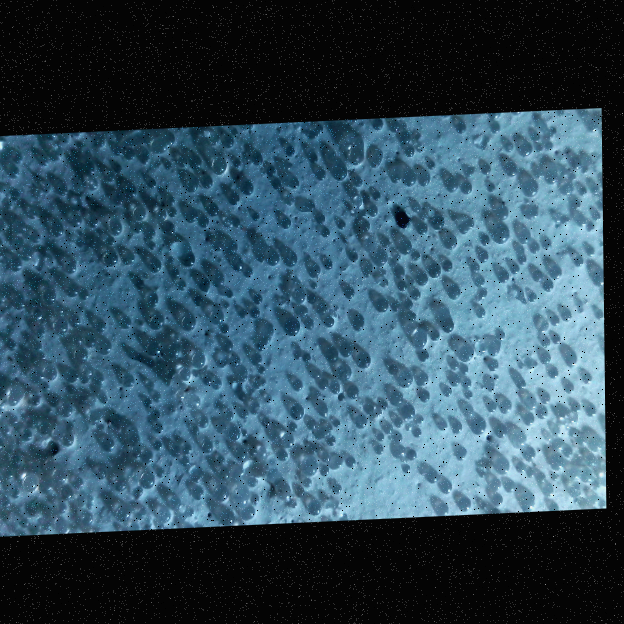GrassBeadSeg: (232, 485, 250, 507), (522, 179, 538, 198), (398, 369, 414, 388), (412, 330, 428, 348), (302, 458, 318, 476), (493, 225, 509, 243), (285, 317, 300, 336), (332, 162, 347, 181), (22, 475, 38, 491), (337, 364, 352, 381), (149, 314, 164, 330), (458, 346, 473, 362), (141, 471, 155, 488), (182, 314, 196, 331), (471, 418, 485, 435), (512, 431, 526, 448), (521, 494, 535, 511), (215, 486, 229, 502), (403, 170, 416, 187), (104, 251, 118, 266), (192, 353, 206, 368), (373, 251, 387, 266), (98, 339, 112, 354), (167, 344, 181, 359), (187, 394, 201, 409), (357, 352, 370, 368), (496, 458, 509, 474), (349, 148, 362, 164), (222, 510, 235, 526), (428, 264, 442, 278), (291, 405, 304, 420), (241, 181, 254, 196), (55, 319, 68, 334), (213, 159, 226, 174), (117, 506, 130, 521), (227, 426, 240, 441), (399, 240, 412, 255), (158, 508, 171, 523), (44, 366, 57, 381), (154, 139, 167, 154), (54, 468, 67, 483), (495, 422, 507, 438), (133, 207, 146, 221), (211, 310, 224, 324), (149, 258, 162, 272), (390, 392, 403, 406), (267, 251, 280, 265), (241, 506, 254, 520), (401, 405, 414, 419), (182, 253, 195, 267), (519, 143, 532, 157), (162, 221, 175, 235), (124, 147, 137, 161), (448, 285, 460, 300), (325, 347, 337, 362), (191, 467, 203, 482), (187, 178, 199, 193), (56, 519, 68, 534), (352, 316, 364, 331), (444, 236, 457, 249), (154, 208, 167, 221), (86, 177, 99, 190), (146, 293, 158, 307), (355, 415, 367, 429), (103, 437, 115, 451), (285, 253, 297, 267), (76, 348, 88, 362), (294, 289, 306, 303), (110, 221, 122, 235), (505, 163, 517, 177), (225, 240, 237, 254), (65, 260, 77, 274), (309, 501, 321, 515), (141, 449, 153, 463), (488, 342, 500, 356), (148, 342, 160, 356), (66, 369, 78, 383), (231, 466, 243, 480), (340, 343, 352, 357), (545, 170, 557, 184), (586, 118, 598, 132), (580, 468, 592, 482), (567, 467, 579, 481), (331, 455, 343, 469), (419, 172, 430, 187), (192, 487, 204, 500), (376, 299, 388, 312), (347, 386, 359, 399), (44, 290, 56, 303), (51, 223, 63, 236), (122, 374, 134, 387), (185, 210, 197, 223), (218, 468, 230, 481), (70, 214, 82, 227), (369, 155, 381, 168), (282, 434, 294, 447), (432, 217, 444, 230), (496, 207, 508, 220), (542, 484, 554, 497), (213, 273, 224, 287), (10, 257, 21, 271), (235, 447, 246, 461), (362, 263, 373, 277), (14, 295, 25, 309), (551, 456, 562, 470), (446, 178, 457, 192), (524, 447, 535, 461), (590, 438, 601, 452), (416, 223, 428, 235), (568, 485, 580, 497), (199, 279, 210, 292), (208, 204, 219, 217), (459, 498, 470, 511), (443, 320, 454, 333), (115, 478, 126, 491), (180, 368, 191, 381), (417, 373, 428, 386), (190, 156, 201, 169), (252, 153, 263, 166), (437, 503, 448, 516), (22, 248, 33, 261), (125, 185, 136, 198), (400, 132, 411, 145), (8, 393, 19, 406), (427, 469, 437, 483), (441, 480, 451, 494), (82, 512, 92, 526), (567, 352, 576, 367), (344, 287, 355, 299), (202, 177, 213, 189), (309, 265, 320, 277), (202, 441, 213, 453), (498, 271, 509, 283), (67, 284, 78, 296), (170, 497, 181, 509), (519, 231, 530, 243), (393, 447, 404, 459), (500, 401, 511, 413), (63, 434, 74, 446), (570, 199, 581, 211), (561, 183, 572, 195), (42, 480, 53, 492), (51, 149, 62, 161), (526, 207, 537, 219), (139, 152, 150, 164), (372, 119, 383, 131), (571, 158, 582, 170), (417, 273, 427, 286), (121, 316, 131, 329), (394, 266, 404, 279), (524, 412, 534, 425), (62, 487, 72, 500), (62, 404, 72, 417), (490, 478, 500, 491), (85, 161, 95, 174), (12, 456, 22, 469), (123, 253, 134, 264), (292, 380, 303, 391), (223, 137, 234, 148), (280, 490, 291, 501), (310, 368, 321, 379), (318, 378, 329, 389), (330, 383, 341, 394), (368, 205, 378, 217), (229, 193, 239, 205), (223, 340, 233, 352), (96, 321, 106, 333), (456, 448, 466, 460), (324, 316, 334, 328), (488, 359, 498, 371), (412, 426, 422, 438), (199, 216, 209, 228), (551, 267, 561, 279), (233, 259, 243, 271), (493, 494, 503, 506), (537, 407, 547, 419), (318, 405, 328, 417), (9, 166, 19, 178), (113, 193, 123, 205), (57, 184, 67, 196), (178, 156, 188, 168), (94, 373, 104, 385), (456, 122, 466, 134), (55, 303, 65, 315), (32, 309, 42, 321), (470, 262, 480, 274), (83, 366, 93, 378), (257, 447, 267, 459), (295, 486, 305, 498), (308, 443, 318, 455), (11, 486, 20, 499), (199, 417, 209, 428), (420, 391, 430, 402), (478, 251, 488, 262), (543, 280, 553, 291), (266, 166, 276, 177), (278, 450, 288, 461), (183, 443, 193, 454), (462, 183, 472, 194), (281, 218, 291, 229), (80, 289, 90, 300), (73, 478, 83, 489), (450, 375, 460, 386), (360, 221, 370, 232), (97, 468, 107, 479), (248, 477, 258, 488), (171, 445, 181, 456), (214, 240, 224, 251), (315, 429, 325, 440), (39, 155, 49, 166), (289, 178, 299, 189), (458, 223, 468, 234), (419, 350, 428, 362), (146, 227, 155, 239), (305, 318, 314, 330), (23, 429, 32, 441), (316, 169, 325, 181), (58, 502, 67, 514), (541, 352, 550, 364), (250, 402, 259, 414), (71, 315, 80, 327), (563, 446, 572, 458), (217, 421, 226, 433), (389, 363, 398, 375), (346, 457, 356, 467), (391, 302, 401, 312), (537, 473, 547, 483), (549, 368, 558, 379), (244, 267, 253, 278), (476, 276, 485, 287), (431, 330, 440, 341), (587, 406, 596, 417), (86, 336, 95, 347), (574, 256, 583, 267), (505, 481, 514, 492), (583, 373, 592, 384), (405, 147, 414, 158), (453, 422, 462, 433), (31, 233, 40, 244), (89, 217, 98, 228), (517, 378, 526, 389), (212, 378, 221, 389), (526, 398, 535, 409), (365, 404, 374, 415), (42, 182, 51, 193), (106, 171, 115, 182), (4, 199, 13, 210), (232, 217, 241, 228), (505, 142, 514, 153), (491, 123, 500, 134), (488, 401, 497, 412), (541, 393, 550, 404), (565, 382, 574, 393), (568, 427, 577, 438), (450, 359, 459, 370), (74, 334, 83, 345), (5, 469, 14, 480), (320, 465, 329, 476), (321, 452, 330, 463), (312, 391, 321, 402), (167, 369, 176, 380), (238, 371, 247, 382), (240, 408, 248, 420), (552, 425, 560, 437), (530, 243, 539, 253), (252, 355, 261, 365), (321, 228, 330, 238), (398, 281, 407, 291), (170, 269, 179, 279), (316, 214, 325, 224), (286, 147, 295, 157), (285, 195, 294, 205), (393, 433, 402, 443), (137, 508, 146, 518), (324, 260, 333, 270), (327, 436, 336, 446), (462, 379, 471, 389), (7, 340, 16, 350), (31, 395, 40, 405), (231, 356, 240, 366), (562, 311, 571, 321), (465, 167, 474, 177), (9, 416, 18, 426), (15, 155, 24, 165), (18, 222, 27, 232), (11, 190, 20, 200), (390, 122, 399, 132), (391, 173, 400, 183), (595, 310, 604, 320), (381, 238, 390, 248), (2, 498, 11, 508), (132, 448, 141, 458), (152, 411, 161, 421), (385, 423, 394, 433), (588, 456, 597, 466), (254, 294, 262, 305), (333, 483, 341, 494), (134, 488, 142, 499), (178, 280, 186, 291), (225, 410, 233, 421), (481, 235, 489, 246), (273, 179, 281, 190), (354, 176, 362, 187), (516, 462, 524, 473), (233, 158, 241, 169), (482, 165, 490, 176), (42, 382, 50, 393), (350, 189, 358, 200), (134, 223, 142, 234), (373, 190, 381, 201), (467, 219, 475, 230), (375, 445, 384, 454), (251, 309, 260, 318), (147, 179, 156, 188), (394, 418, 403, 427), (526, 468, 535, 477), (29, 211, 38, 220), (552, 335, 561, 344), (419, 211, 428, 220), (590, 495, 599, 504), (477, 308, 485, 318), (221, 324, 229, 334), (408, 450, 416, 460), (153, 392, 161, 402), (299, 307, 307, 317), (303, 478, 311, 488), (195, 296, 203, 306), (444, 261, 452, 271), (534, 272, 542, 282), (439, 420, 447, 430), (155, 423, 163, 433), (551, 316, 559, 326), (37, 328, 45, 338), (511, 265, 519, 275), (465, 406, 473, 416), (318, 304, 326, 314), (100, 394, 108, 404), (258, 253, 266, 263), (308, 420, 316, 430), (34, 342, 42, 352), (528, 292, 536, 302), (542, 338, 550, 348), (572, 402, 580, 412), (479, 289, 487, 299), (412, 202, 420, 212), (412, 251, 420, 261), (204, 375, 212, 385), (412, 290, 420, 299), (350, 252, 358, 261), (337, 220, 345, 229), (543, 240, 551, 249), (303, 353, 311, 362), (251, 495, 259, 504), (535, 144, 543, 153), (408, 312, 416, 321), (263, 335, 271, 344), (488, 183, 495, 193), (587, 247, 594, 257), (310, 154, 317, 164), (294, 350, 301, 360), (0, 222, 7, 232), (106, 237, 114, 245), (20, 519, 28, 527), (579, 188, 587, 196), (568, 174, 576, 182), (560, 169, 568, 177), (155, 442, 163, 450), (97, 424, 105, 432), (176, 392, 184, 400), (192, 427, 200, 435), (79, 396, 87, 404), (91, 416, 99, 424), (187, 508, 195, 516), (263, 420, 271, 428), (240, 309, 247, 318), (444, 388, 451, 397), (226, 289, 233, 298), (148, 241, 155, 250), (170, 208, 177, 217), (290, 423, 297, 432), (519, 255, 526, 264), (545, 142, 552, 151), (168, 197, 175, 206), (165, 161, 172, 170), (137, 280, 144, 289), (417, 144, 424, 153), (462, 365, 469, 374), (498, 331, 505, 340), (405, 300, 412, 309), (308, 294, 315, 303), (257, 343, 264, 352), (417, 416, 424, 425), (252, 213, 259, 221), (333, 419, 340, 427), (378, 433, 385, 441), (587, 224, 594, 232), (428, 162, 435, 170), (381, 279, 388, 287), (98, 139, 105, 147), (115, 147, 122, 155), (533, 134, 540, 142), (578, 219, 585, 227), (535, 171, 542, 179), (593, 213, 600, 221), (592, 186, 599, 194), (582, 166, 589, 174), (545, 132, 552, 140), (44, 522, 51, 530), (78, 498, 85, 506), (158, 469, 165, 477), (182, 458, 189, 466), (145, 399, 152, 407), (218, 457, 225, 465), (249, 448, 256, 456), (375, 409, 382, 417), (382, 402, 389, 410), (339, 394, 346, 402), (239, 393, 246, 401), (403, 464, 409, 473), (400, 123, 407, 130), (450, 214, 457, 221), (408, 279, 415, 286), (466, 392, 472, 400), (87, 502, 93, 510), (88, 495, 94, 503), (259, 367, 265, 375), (194, 370, 200, 378), (265, 396, 271, 403), (290, 501, 296, 508), (394, 254, 400, 261), (380, 270, 387, 276), (309, 204, 315, 211), (284, 164, 291, 170), (232, 130, 238, 137), (173, 336, 179, 343), (255, 382, 261, 389), (415, 134, 421, 140), (538, 327, 544, 333), (518, 363, 524, 369), (480, 471, 486, 477), (552, 475, 558, 481), (311, 283, 317, 289), (224, 302, 230, 308), (578, 308, 584, 313), (493, 375, 499, 380), (488, 387, 494, 392), (478, 459, 483, 465), (406, 425, 411, 431), (420, 470, 426, 475), (481, 504, 487, 509), (478, 465, 483, 471), (546, 435, 551, 441), (556, 445, 562, 450), (583, 299, 588, 305), (249, 390, 254, 395), (242, 431, 247, 436), (563, 420, 567, 425), (537, 448, 541, 452), (566, 426, 570, 430), (529, 365, 533, 369), (534, 362, 538, 366)
